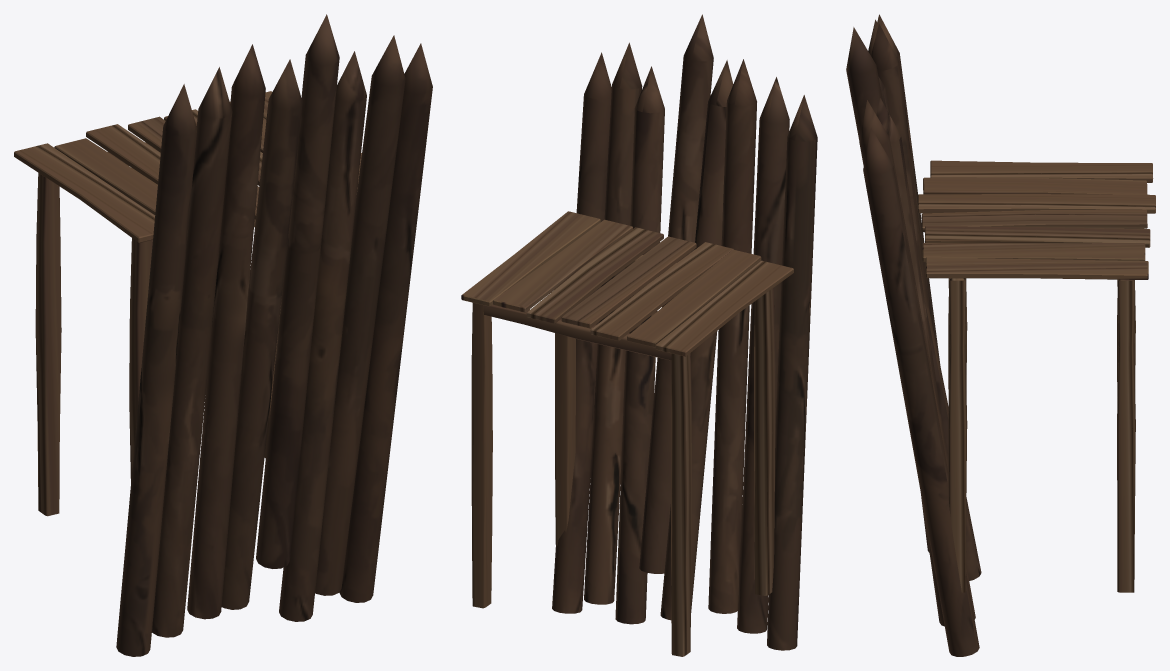
The model's file is Wall middle.fbx.
The picture shows the model from 3 angles, left to right: view 1: azimuth 30°, elevation 25°; view 2: azimuth 150°, elevation 25°; view 3: azimuth 270°, elevation 25°; orthographic projection. The views are drawn at different scales.
Visible parts, largest first — view 1: Wall_middle; view 2: Wall_middle; view 3: Wall_middle.
Part boxes in pixels (left/top/right/bottom): Wall_middle: left=14, top=14, right=432, bottom=656; Wall_middle: left=461, top=14, right=817, bottom=656; Wall_middle: left=846, top=14, right=1155, bottom=656.
Bounding box in the file's own units: 2.21 × 5 × 2.4.
